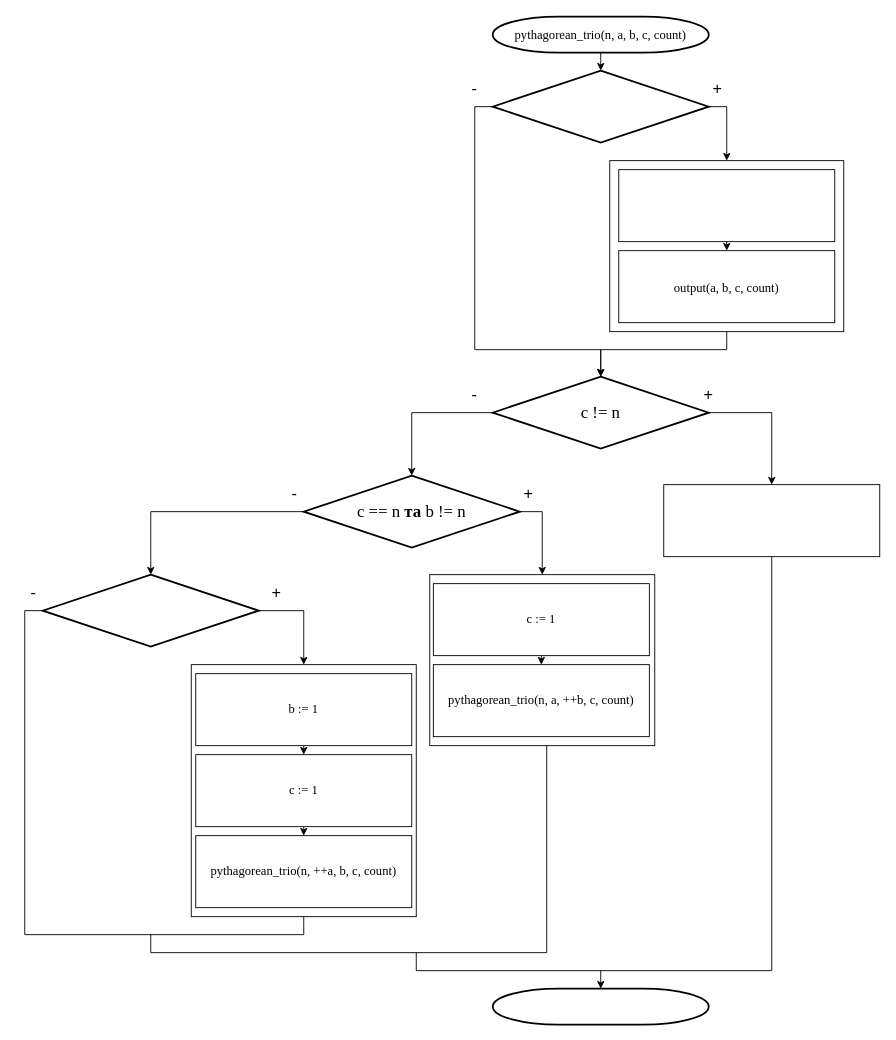
Image size: 896x1040. Some labels were removed from this diagram. The shapes that lost their labels are listed below. From the top down, each one's centre as x and y in pixels, then its label:
At (600,106): "pow(a, 2) + pow(b, 2) == pow(c, 2)".
At (726,205): "++count".
At (771,520): "pythagorean_trio(n, a, b, ++c, count)".
At (150,610): "c == n та b == n та a != n".
At (600,1006): "кінець".
